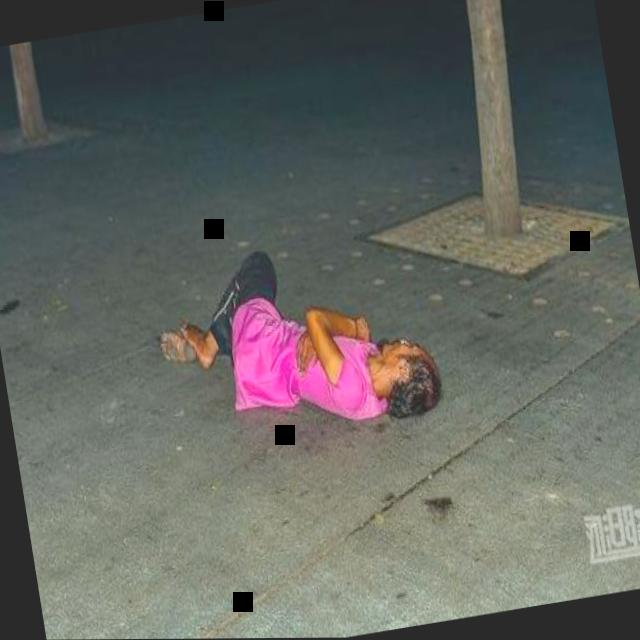Fall-Detected: (140, 199, 460, 464)
